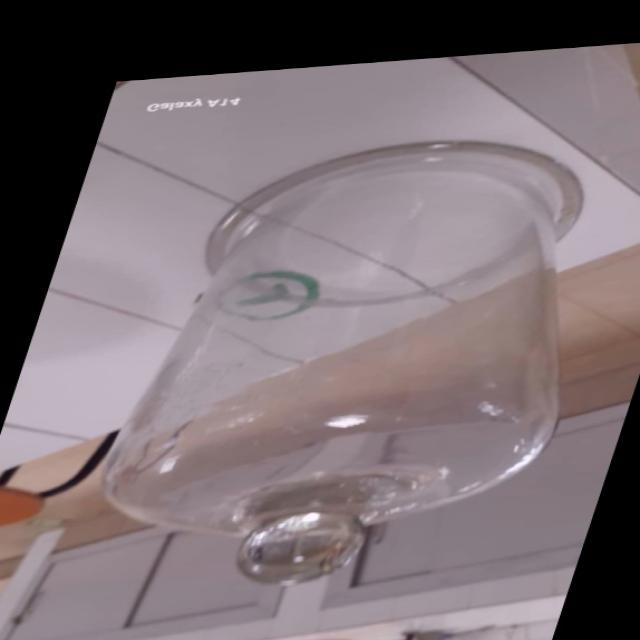Gas Bottle: (38, 123, 640, 606)
